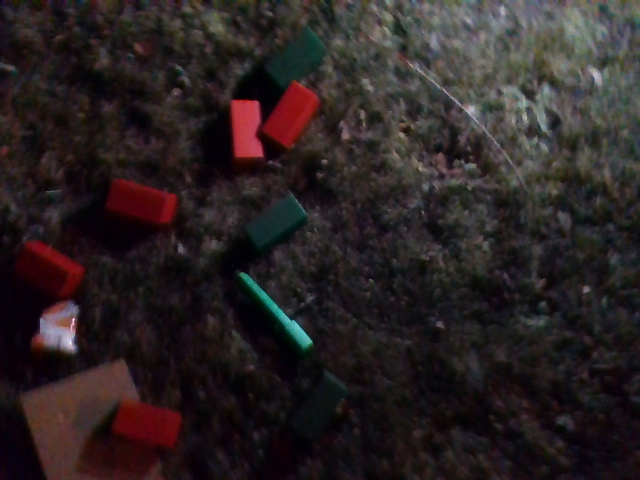Probe: (231, 267, 315, 350)
